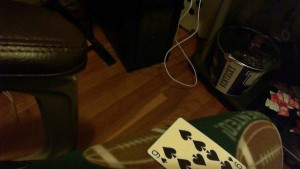NineOfSpades: (146, 117, 247, 169)
